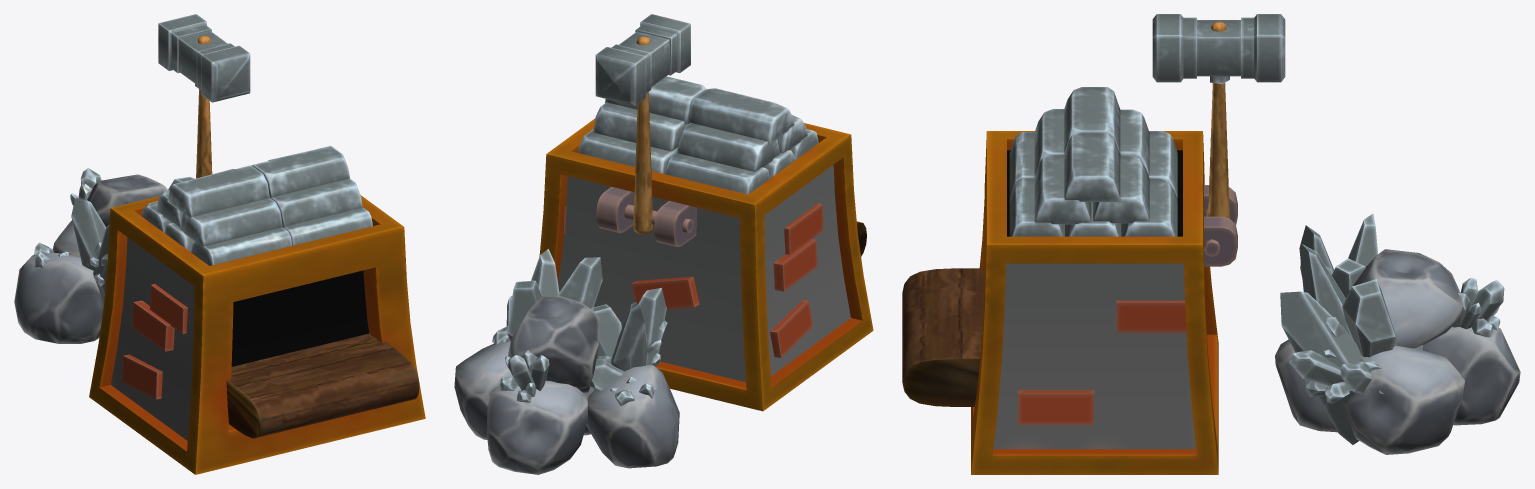
Rendered from iron mine.fbx.
The picture shows the model from 3 angles, left to right: view 1: azimuth 30°, elevation 25°; view 2: azimuth 150°, elevation 25°; view 3: azimuth 270°, elevation 25°; orthographic projection. The views are drawn at different scales.
Visible parts, largest first — view 1: rockLP.001_Baked, rockLP.003_Baked, Cylinder.002_Baked; view 2: rockLP.001_Baked, Cylinder.002_Baked; view 3: rockLP.001_Baked, Cylinder.002_Baked, rockLP.003_Baked.
Boxes of the visible parts, x1,y1,x2,y2 form: rockLP.001_Baked: (14, 146, 425, 474); rockLP.003_Baked: (226, 333, 419, 438); Cylinder.002_Baked: (158, 14, 250, 178); rockLP.001_Baked: (454, 76, 873, 474); Cylinder.002_Baked: (595, 14, 690, 234); rockLP.001_Baked: (971, 87, 1520, 474); Cylinder.002_Baked: (1152, 14, 1285, 218); rockLP.003_Baked: (902, 268, 984, 406).
Size of the model in its own units: 96 by 134 by 192.
Materials: 1 (1 with a texture image).
